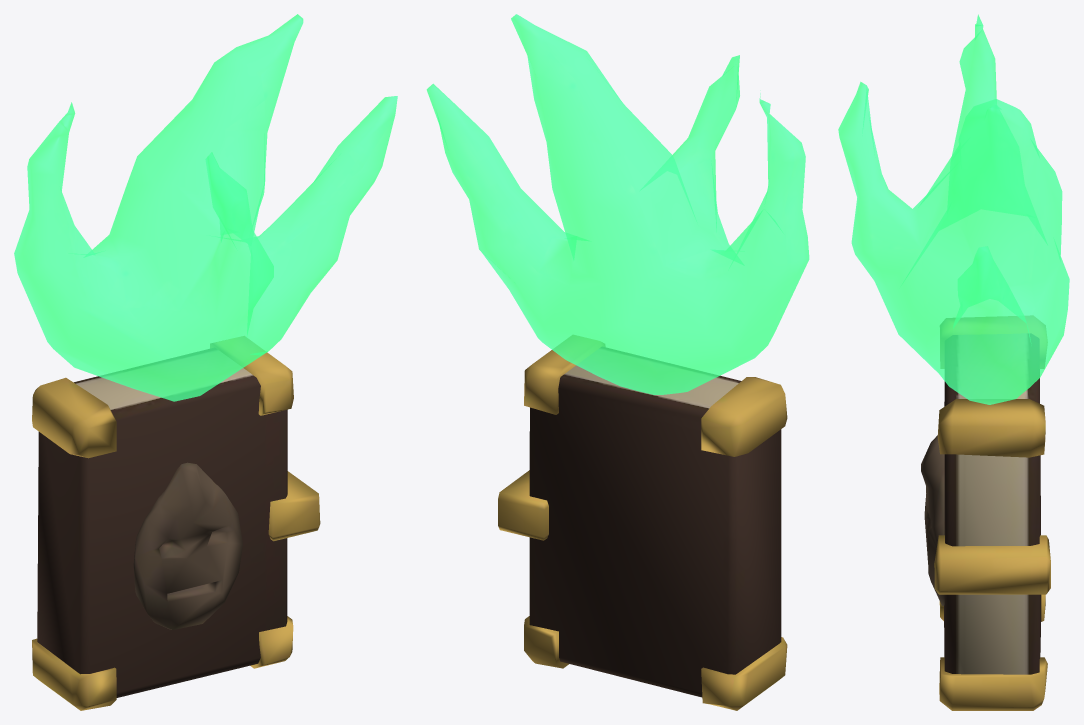
File: warlock-book.glb
3 renders of one model, left to right at view 1: azimuth 30°, elevation 25°; view 2: azimuth 150°, elevation 25°; view 3: azimuth 270°, elevation 25°, orthographic.
Visible parts, largest first — view 1: book, flame; view 2: book, flame; view 3: flame, book.
Part boxes in pixels (x1,y1,x2,y2): book: (32, 336, 320, 710); flame: (14, 14, 397, 401); book: (498, 335, 787, 710); flame: (426, 14, 809, 394); flame: (838, 14, 1069, 404); book: (921, 316, 1050, 710).
Bounding box in the file's own units: 0.1781 × 0.2815 × 0.0945.
Materials: 2 (2 with a texture image).
